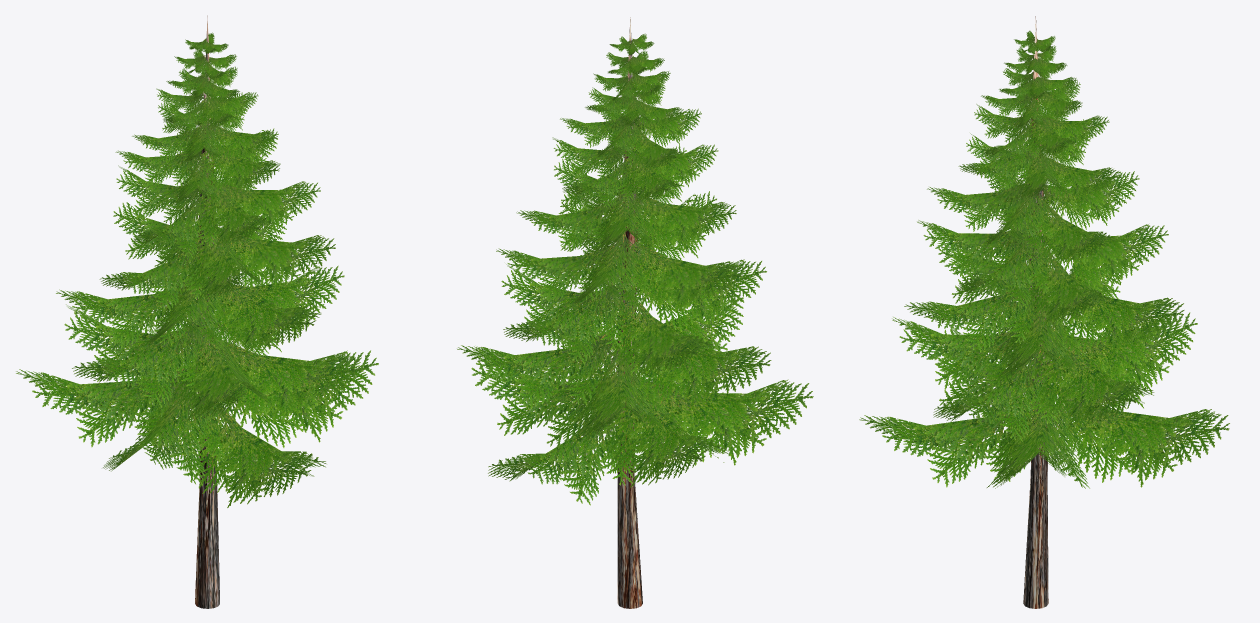
File: fir_tree.fbx
The picture shows the model from 3 angles, left to right: view 1: azimuth 30°, elevation 25°; view 2: azimuth 150°, elevation 25°; view 3: azimuth 270°, elevation 25°; orthographic projection.
Parts seen in each view (by area): view 1: pCylinder2; view 2: pCylinder2; view 3: pCylinder2.
Boxes of the visible parts, <box> form: pCylinder2: <box>16,15,378,608</box>; pCylinder2: <box>457,17,813,608</box>; pCylinder2: <box>859,16,1229,608</box>.
Size of the model in its own units: 366 by 610 by 372.
